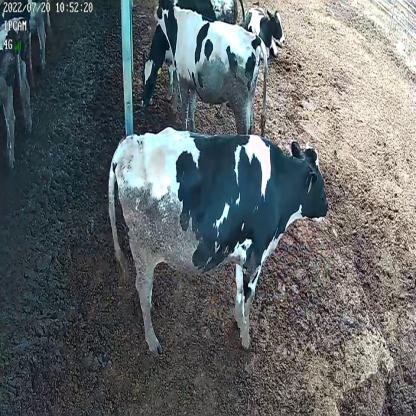cow: (108, 123, 330, 348), (151, 0, 270, 136), (142, 0, 246, 103), (236, 0, 285, 62)
